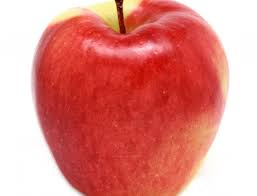apple: (35, 8, 228, 192)
